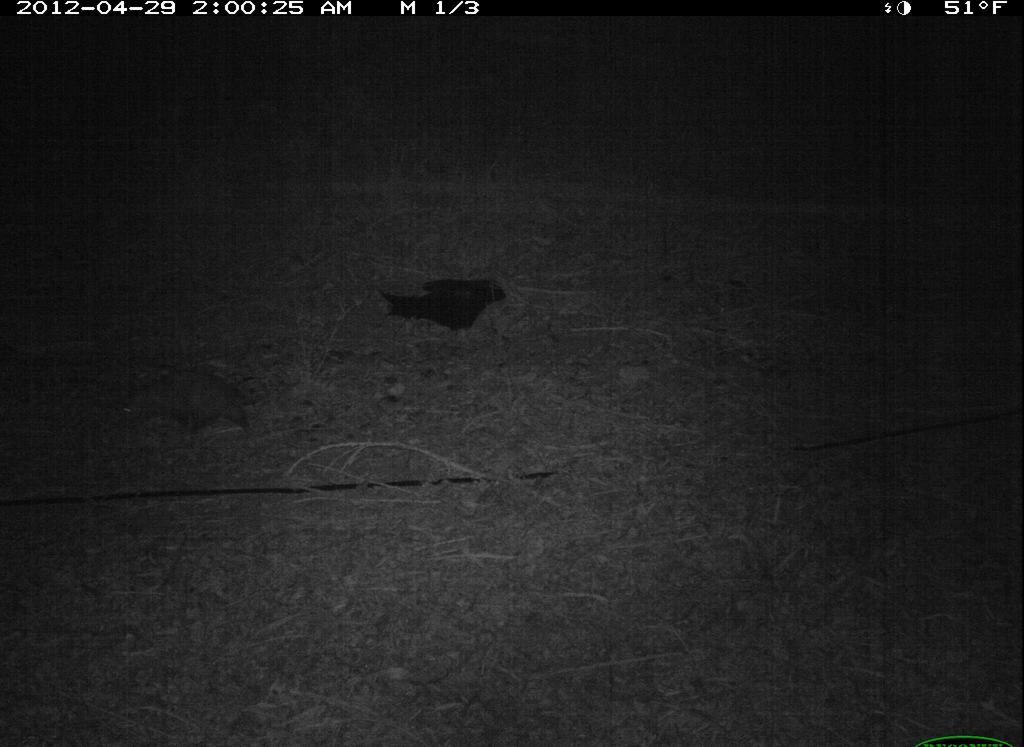opossum: (119, 366, 268, 445)
